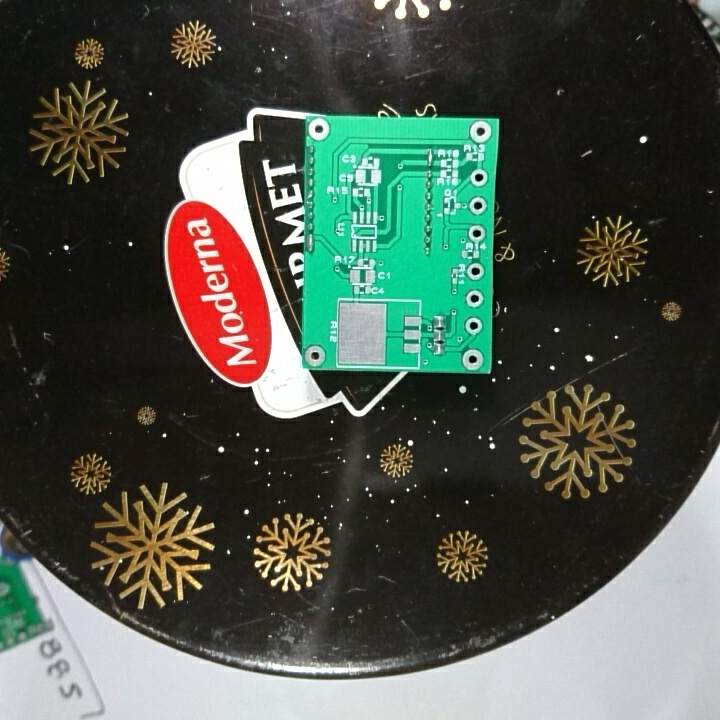F: (308, 115, 333, 143), (468, 120, 493, 146), (459, 346, 486, 370), (304, 342, 327, 366), (465, 260, 486, 283), (468, 196, 488, 217), (469, 168, 488, 190), (467, 223, 486, 245), (465, 315, 485, 335), (465, 289, 484, 309)
P: (305, 230, 317, 257), (425, 147, 435, 167)
